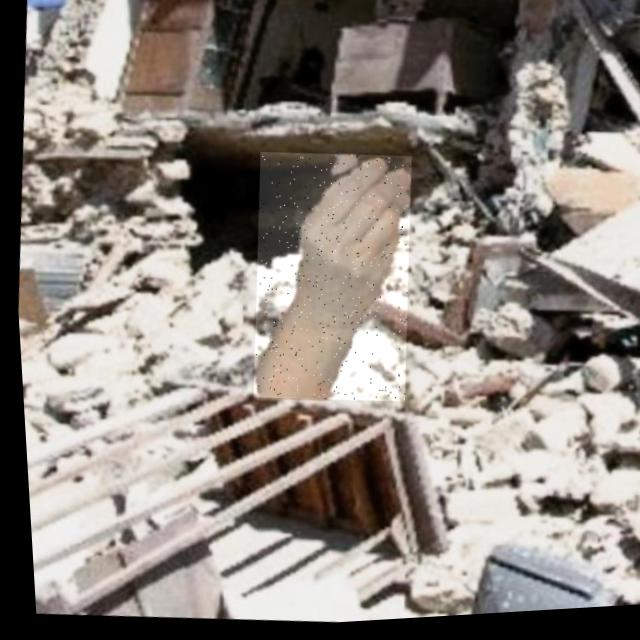Person in Rubble: (236, 148, 420, 413)
